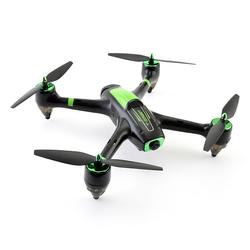drone: (8, 47, 243, 205)
